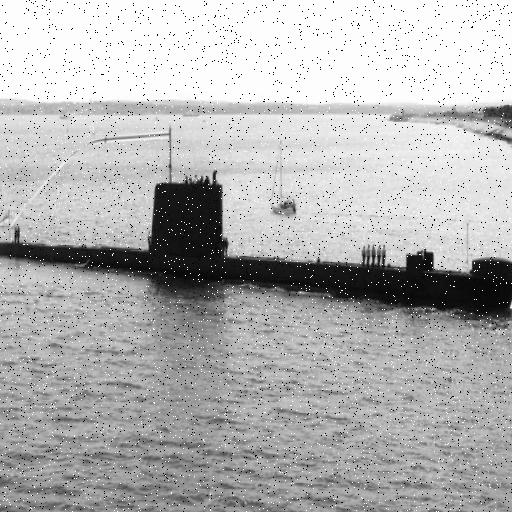submarine: (1, 127, 512, 312)
